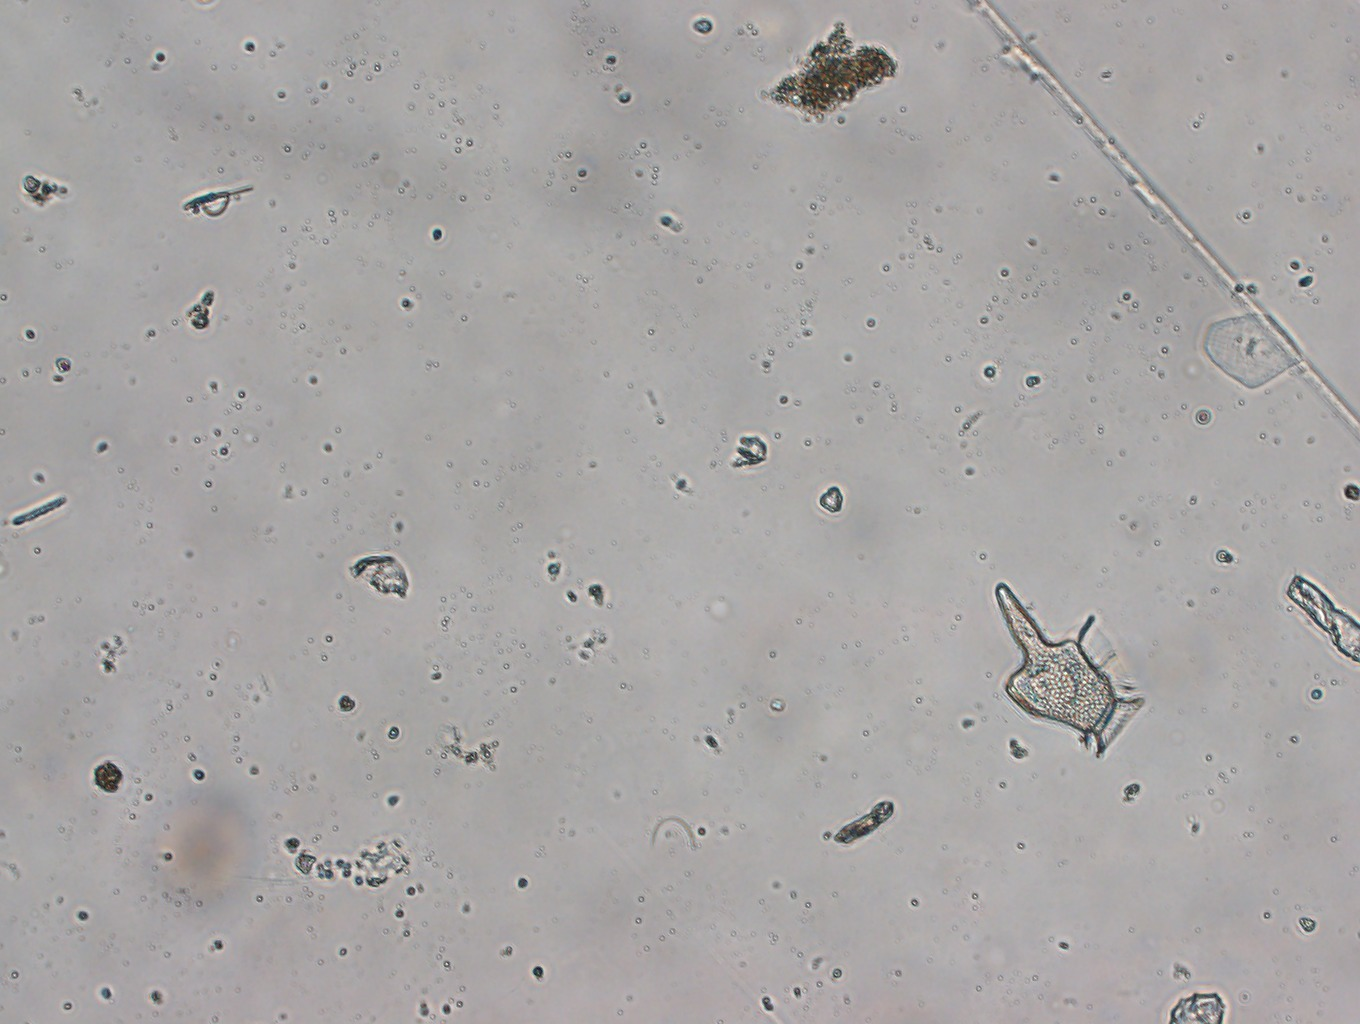dinophysis caudata: (993, 581, 1149, 760)
